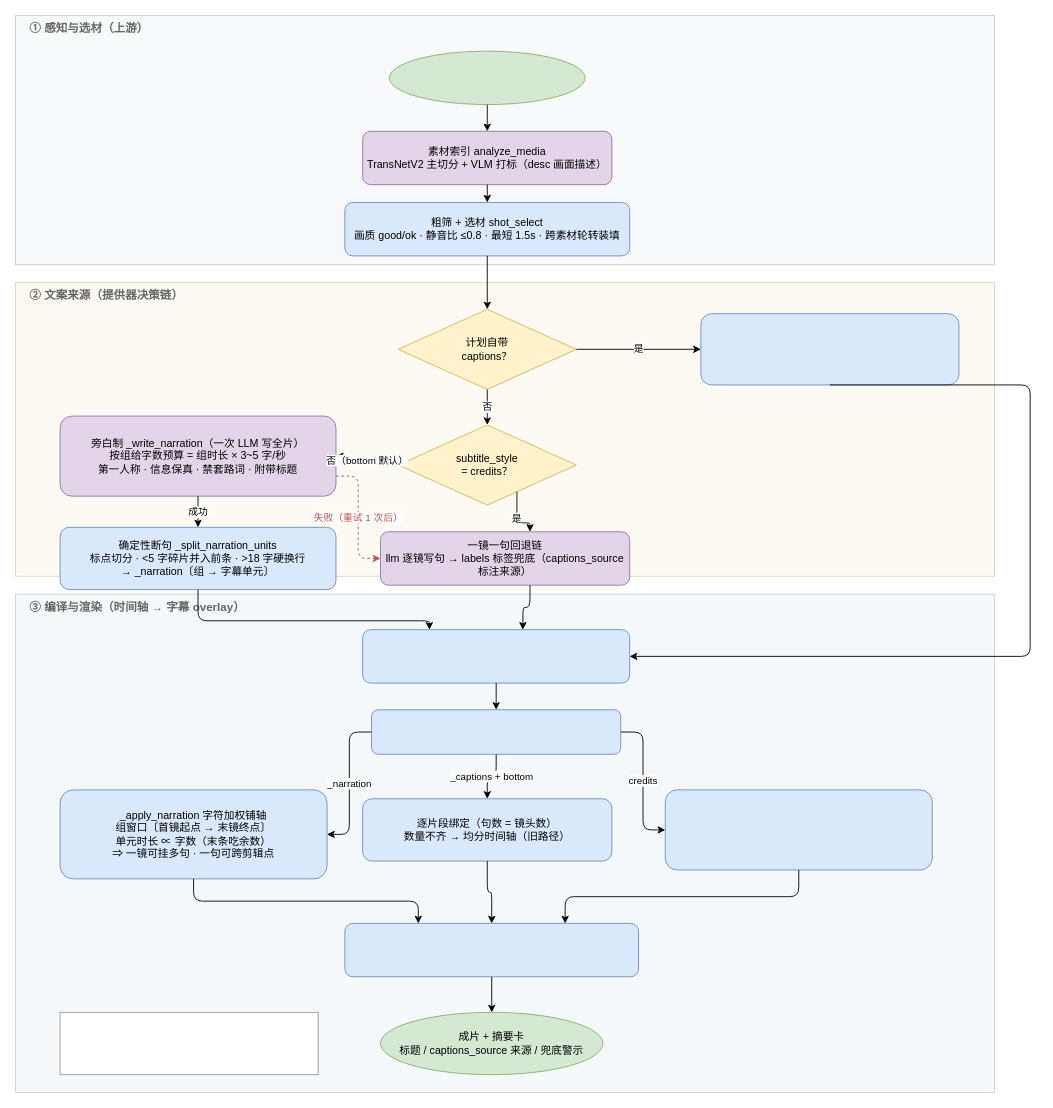
Some shapes in this 1053 by 1108 pixel diagram are drawn without their labels. Here are the shapes that lost their labels. From the top down, the box of each, then its label:
(388, 50, 585, 105): 用户提交 smart_create （一键成片）
(700, 313, 959, 385): plan 提供器：文案直接采用 生成模块完全不参与 credits 时总时长 = 行数 × 秒/行
(362, 629, 630, 683): compile_plan → _derive 时间轴 各镜起点 / 时长 / 总时长 D（转场重叠计入）
(371, 709, 621, 754): 铺轴分发 _apply_captions（按暂存键）
(664, 789, 932, 870): credits 整块滚动 y = h − (h+text_h)·(t−ts)/dur text_align=C 逐行居中 + 描边
(344, 922, 639, 977): drawtext 渲染 _drawtext_chain（两路径共用） 底部字幕抬离底缘 12% 画高（避相机水印）· 统一 yuv420p
(59, 1011, 318, 1075): 图例：紫色 = 有模型参与（LLM/VLM） 蓝色 = 确定性代码（可离线测试） 黄色 = 决策分支 · 绿色 = 起止
